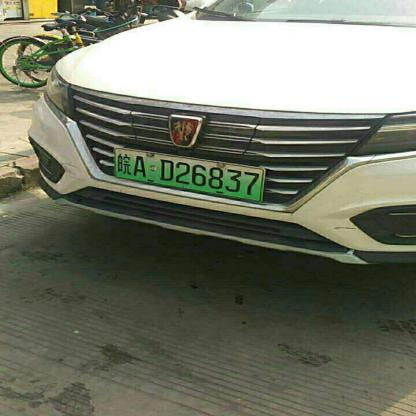lp: (113, 148, 262, 200)
